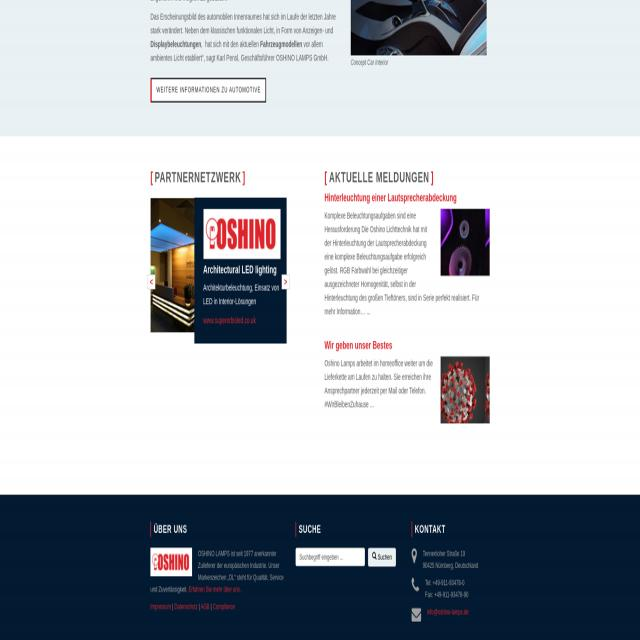button: (351, 0, 487, 56), (151, 198, 195, 332), (203, 209, 280, 258), (440, 354, 490, 424), (440, 209, 490, 276), (150, 78, 266, 103), (150, 548, 192, 576), (368, 548, 396, 566), (282, 274, 290, 290)
field: (295, 548, 365, 566)
